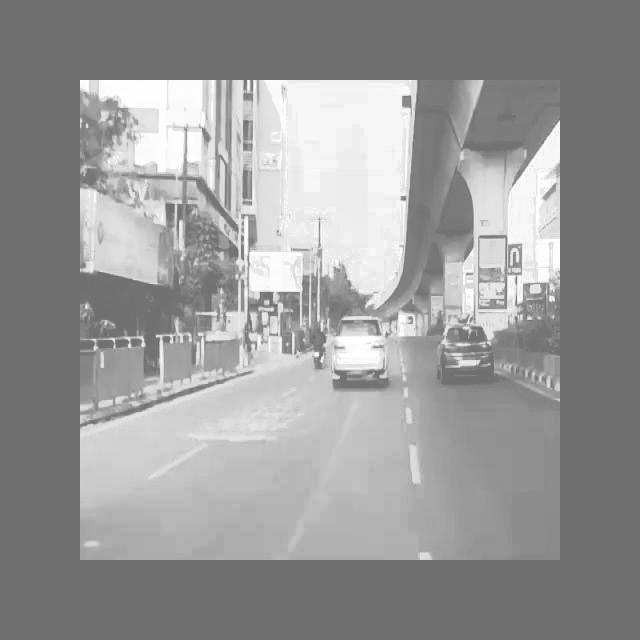Car: (437, 315, 497, 405), (327, 311, 395, 385)
